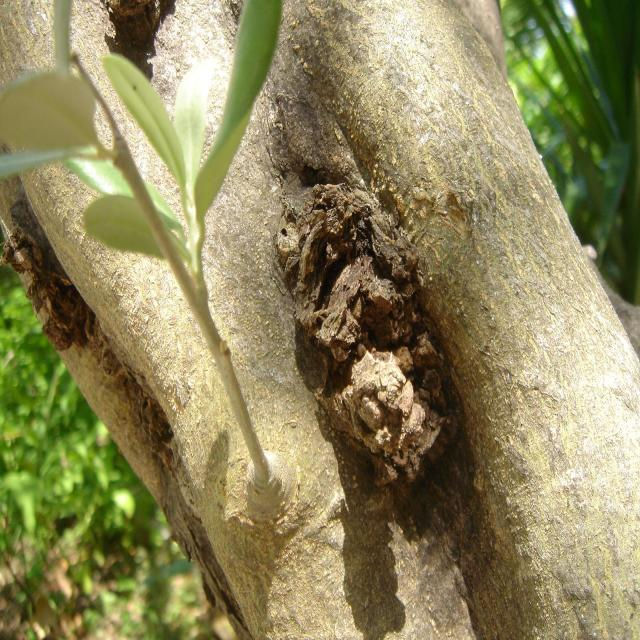Tuberculosis: (275, 165, 457, 509)
